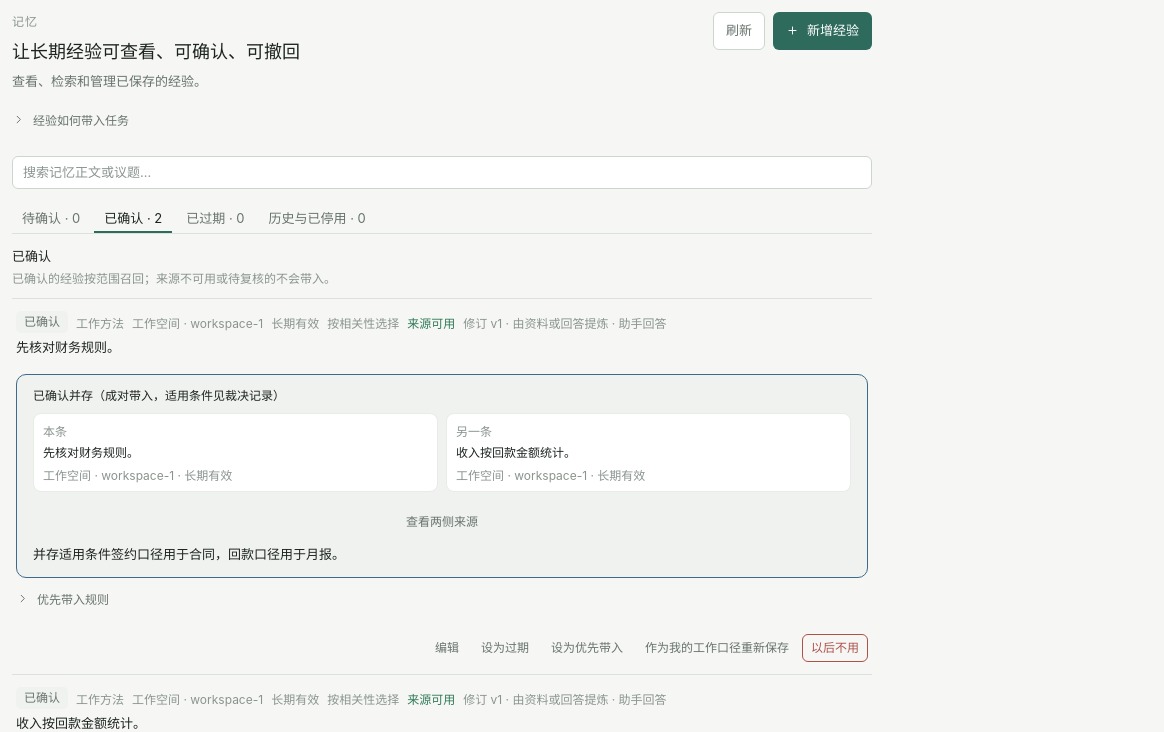
Test: MemoryPage 冲突来源回看（MI07） › 默认只说「可能冲突」，展开后按精确修订显示两侧来源摘要
The width and height of the screenshot is (1164, 732).
Expected: the text "签约口径用于合同，回款口径用于月报。" is shown, [111, 546, 345, 562]
Expected: the text "摘录「" is not shown
Click the button "查看两侧来源".
click(442, 522)  # box [33, 508, 851, 536]
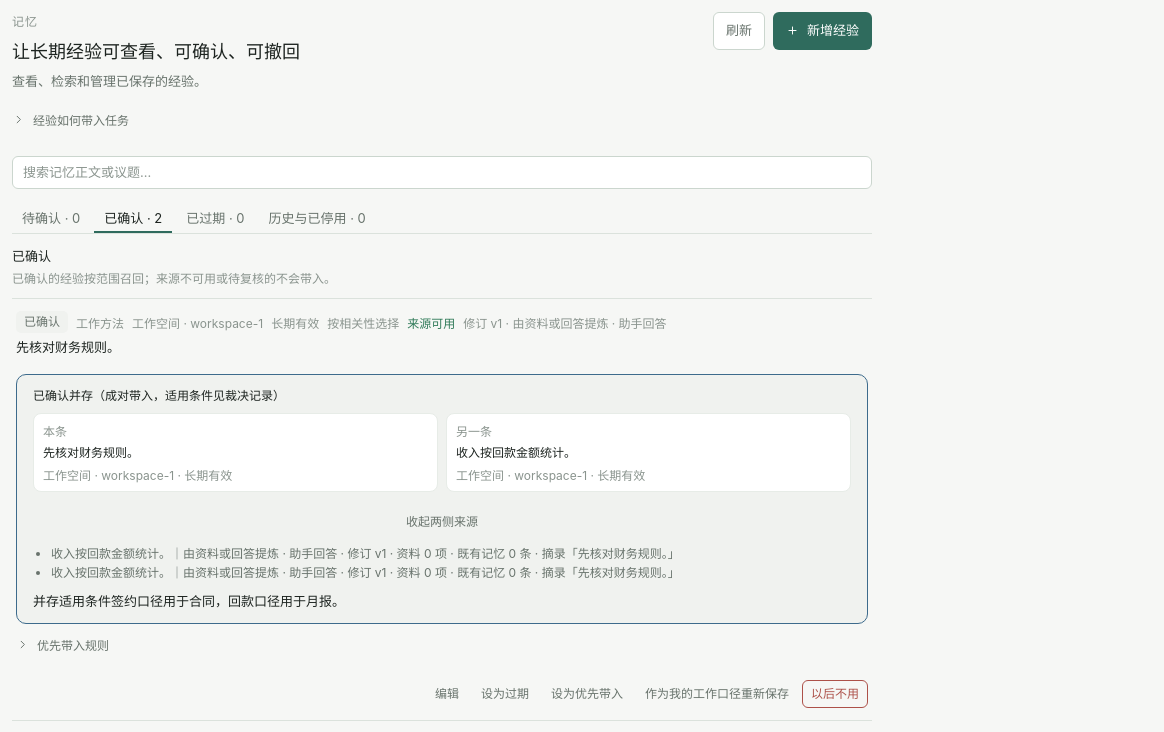
Result: the number of list items is 2 at [51, 546, 680, 561]; [51, 566, 680, 580]
